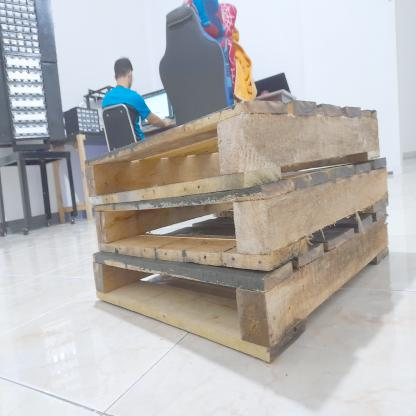Wooden-Pallet: (92, 207, 394, 367), (93, 154, 391, 270), (83, 99, 382, 208)
